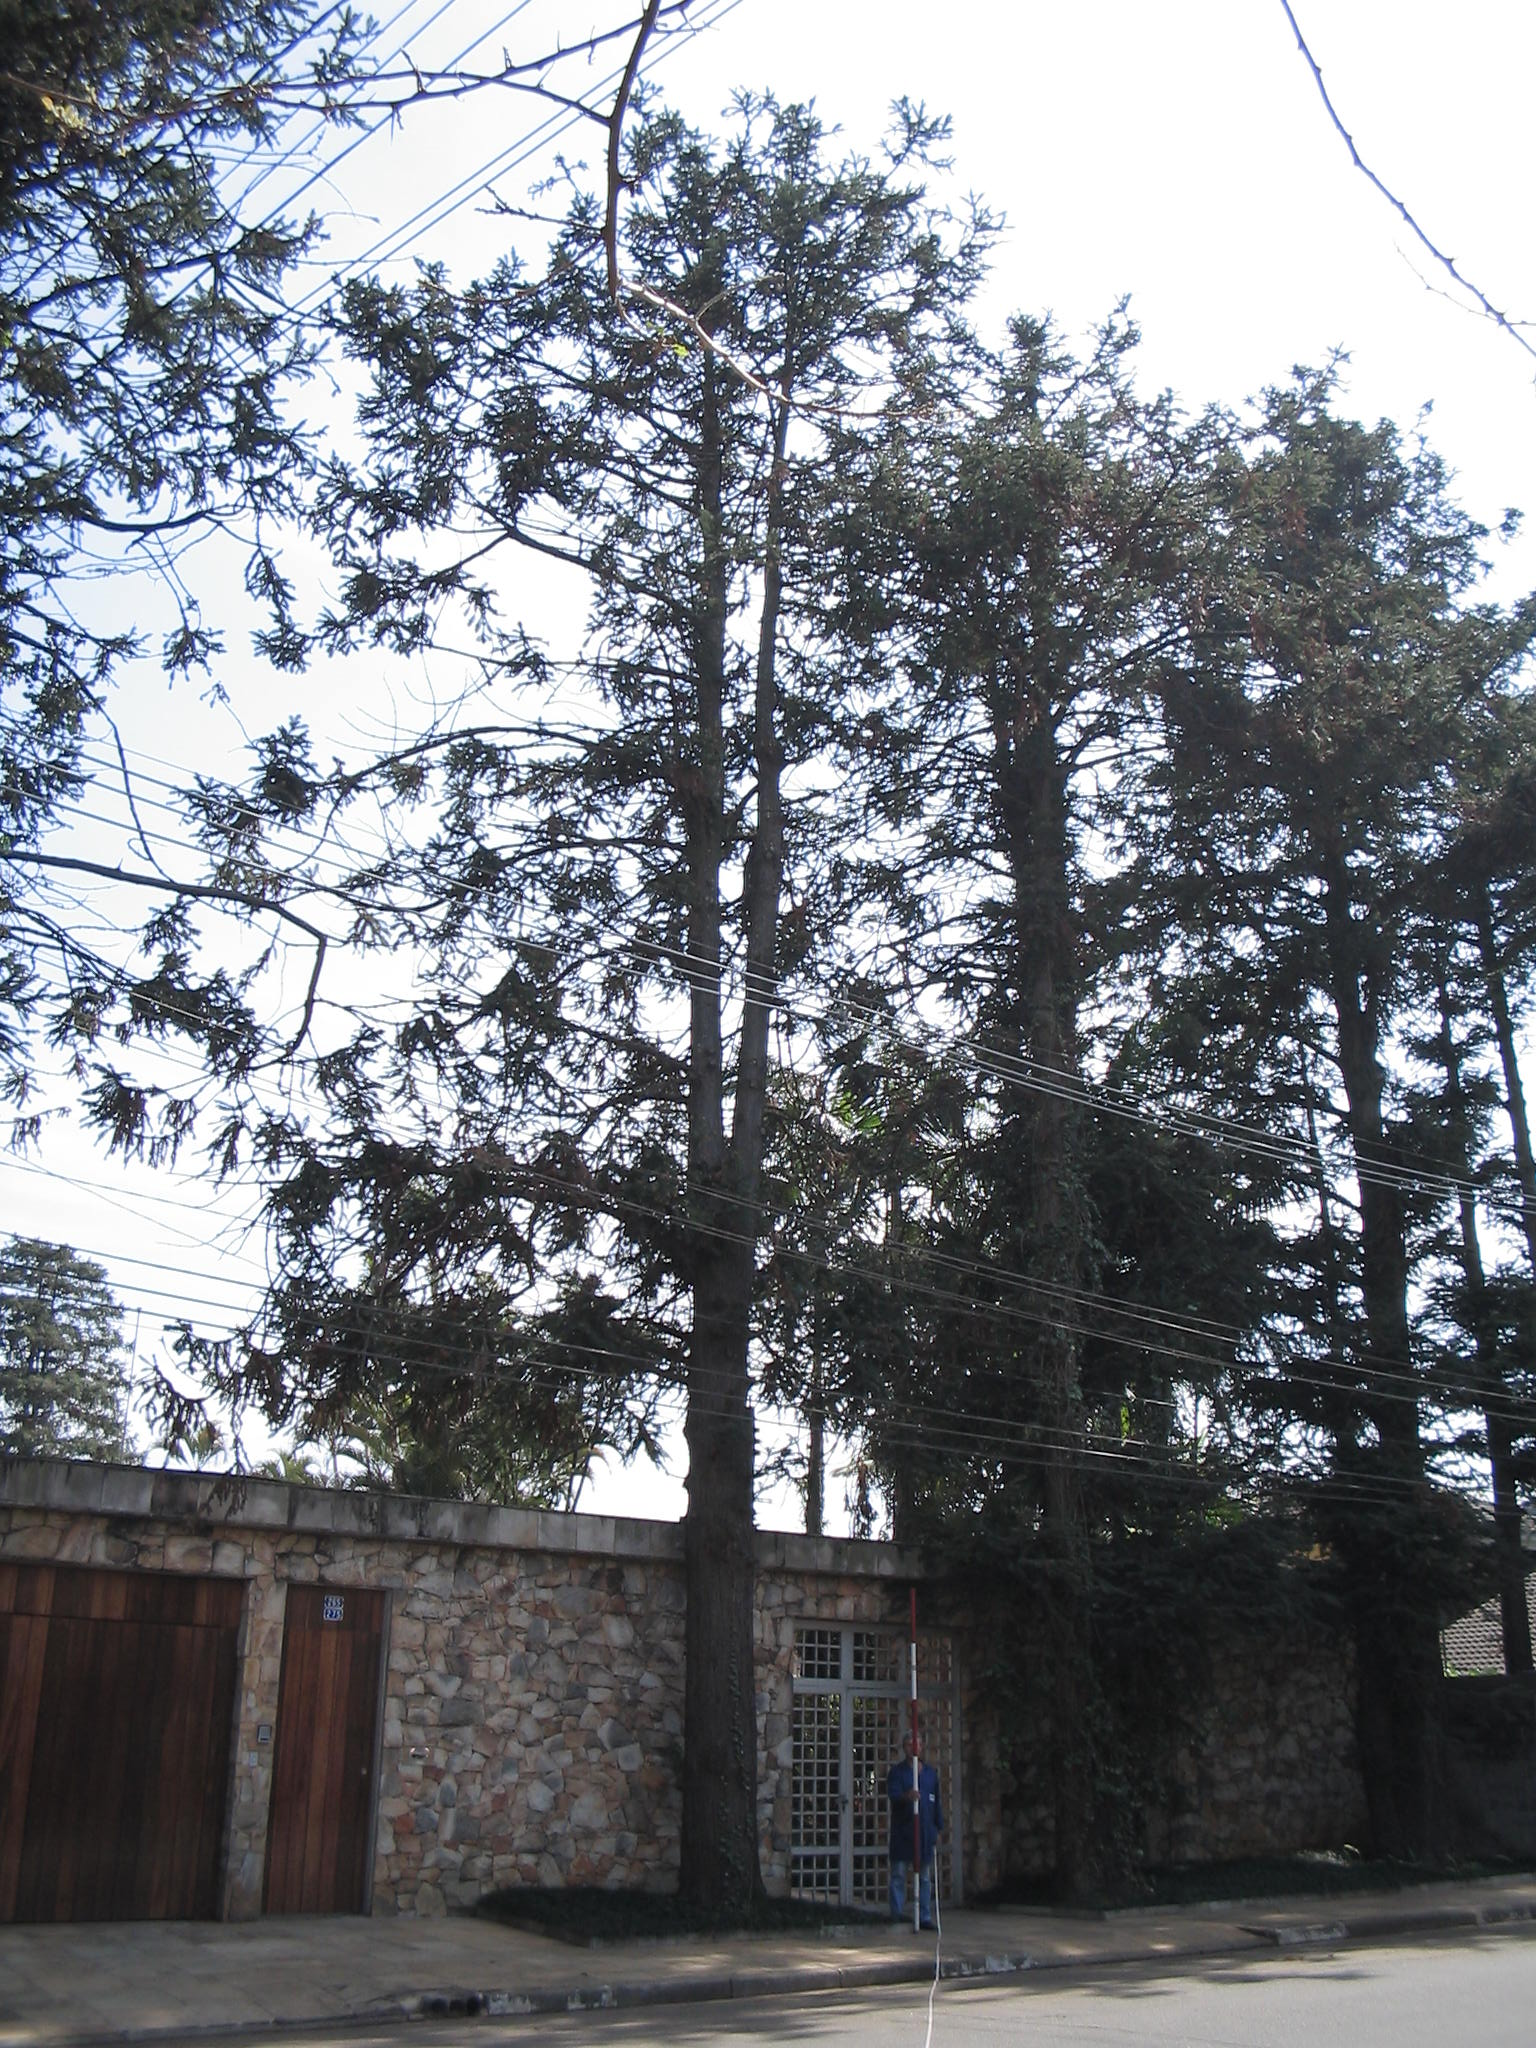crown: (106, 87, 1028, 1526), (774, 311, 1338, 1508), (1128, 353, 1530, 1621)
stem: (650, 1326, 807, 1913), (1007, 1474, 1167, 1903), (1334, 1629, 1492, 1875)
stick: (895, 1587, 933, 1934)
tree: (98, 82, 1029, 1913), (766, 308, 1342, 1908), (1120, 353, 1530, 1874)
